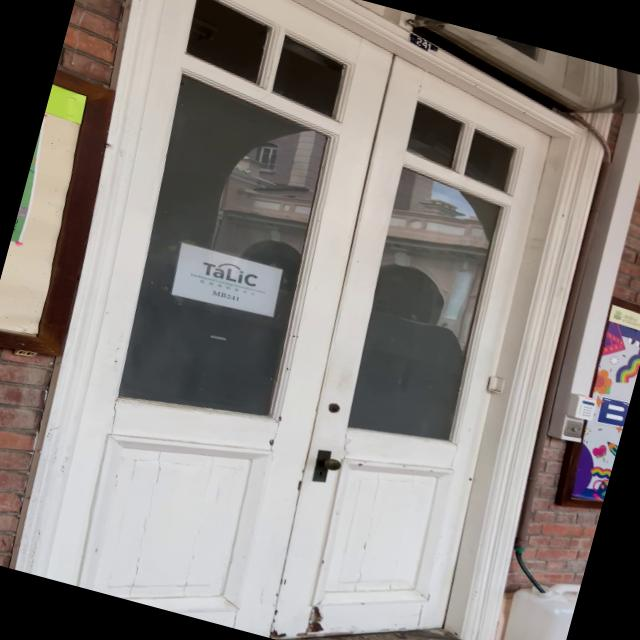room241: (402, 29, 442, 60)
